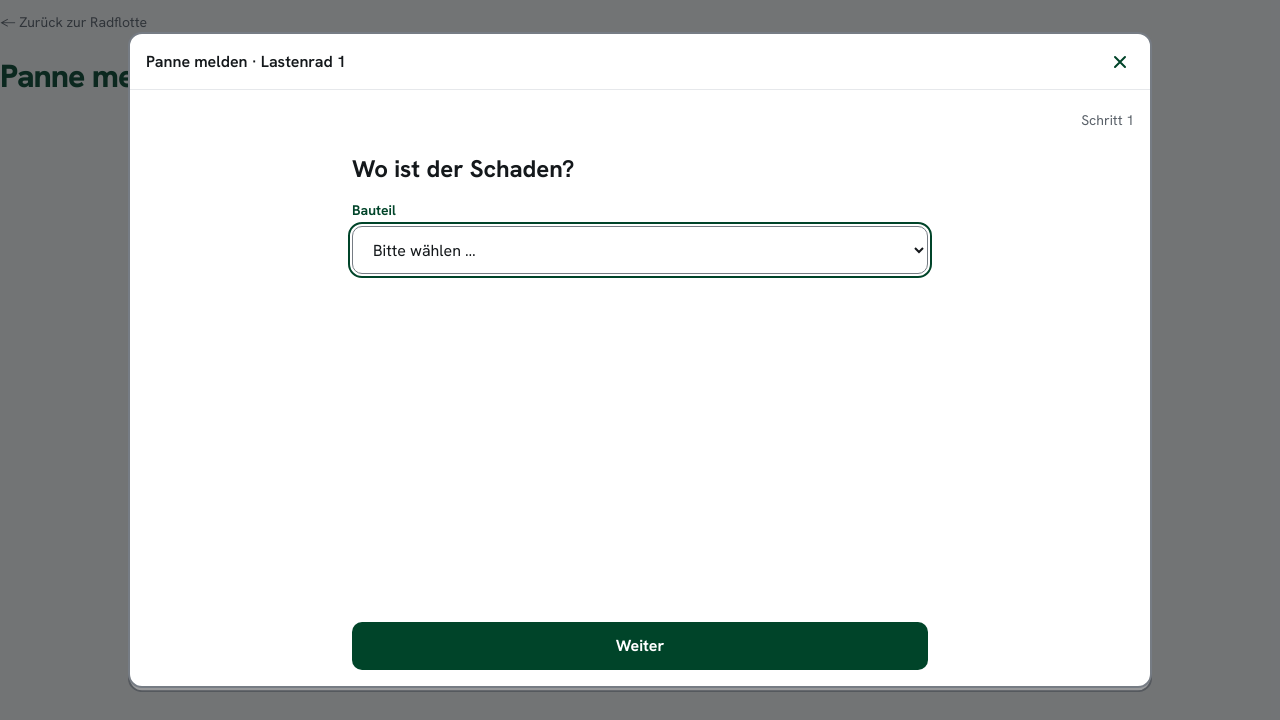
Test: Panne melden › nennt beim Load 60 den Riemenriss, nicht den Kettenriss (Vorschlag 8)
The width and height of the screenshot is (1280, 720).
Step 1. Click the button "Weiter" → [640, 646], box [352,622,928,670]
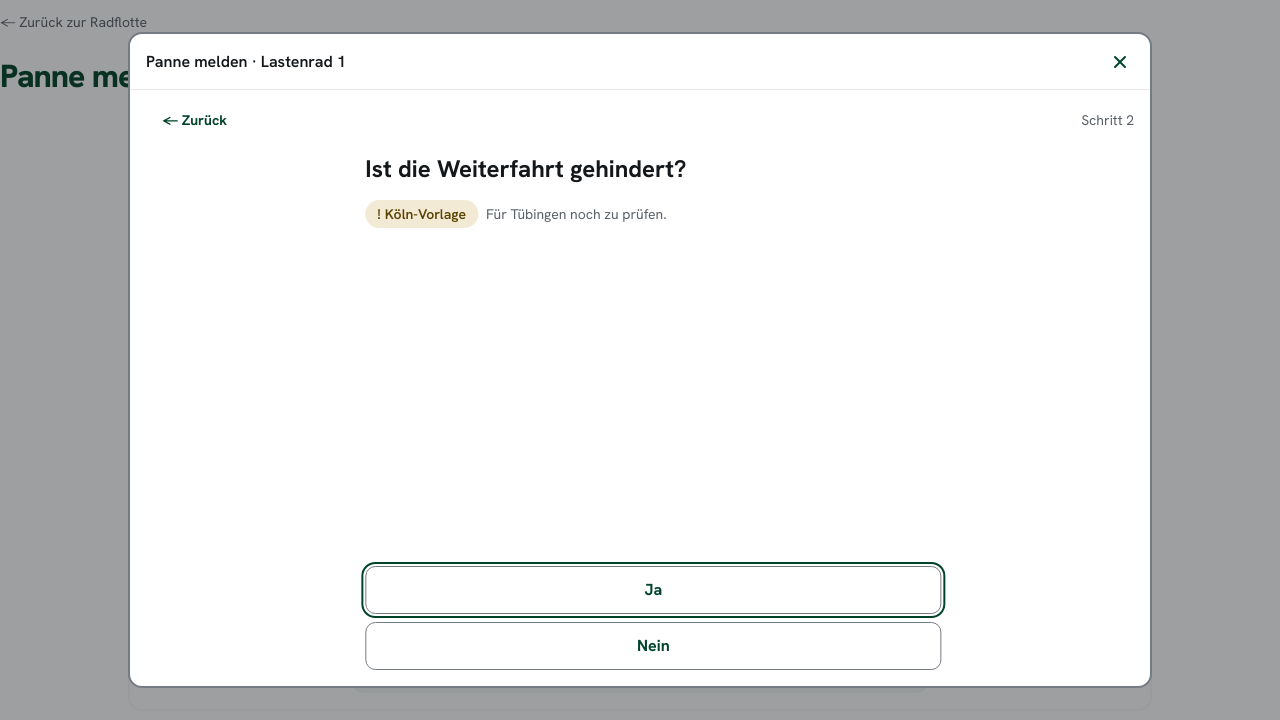
Step 2. Click the button "Ja" → [644, 590], box [356,566,932,614]
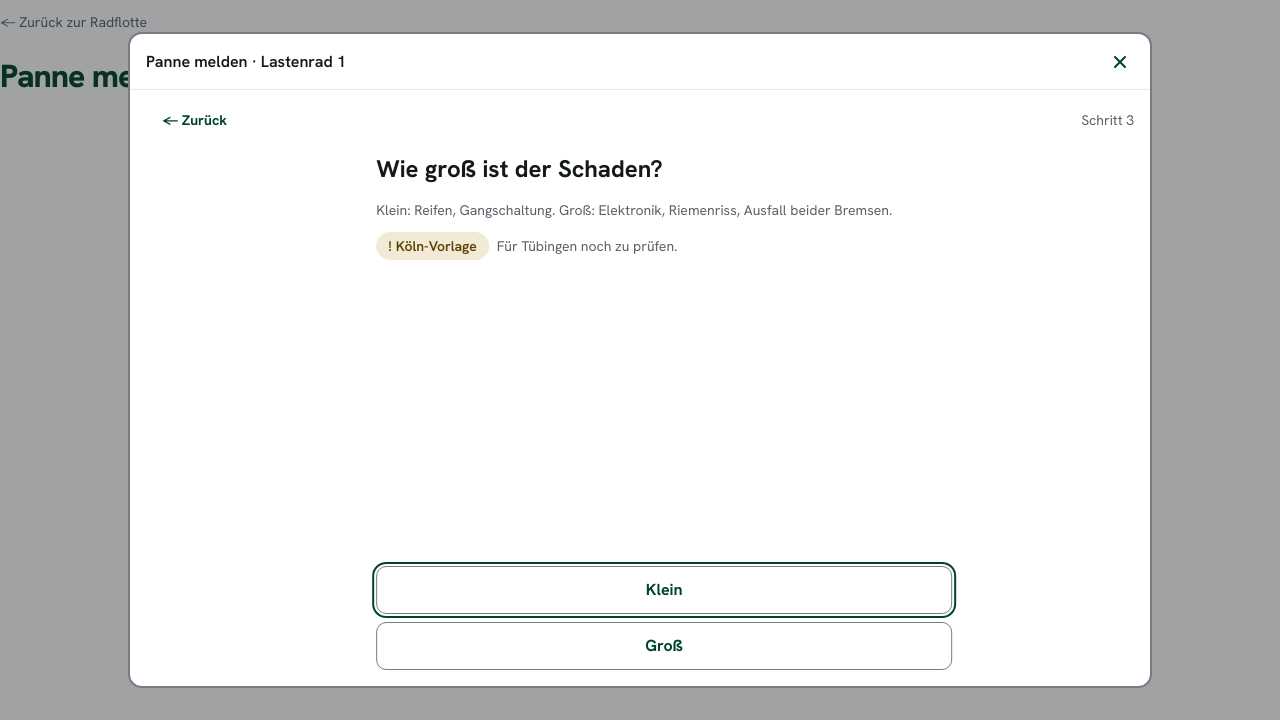
Result: the text "Klein: Reifen, Gangschaltung. Groß: Elektronik, Riemenriss, Ausfall beider Bremsen." is shown at [361,200,937,220]
Result: the text "Schritt 3" is shown at [1081,110,1134,130]
